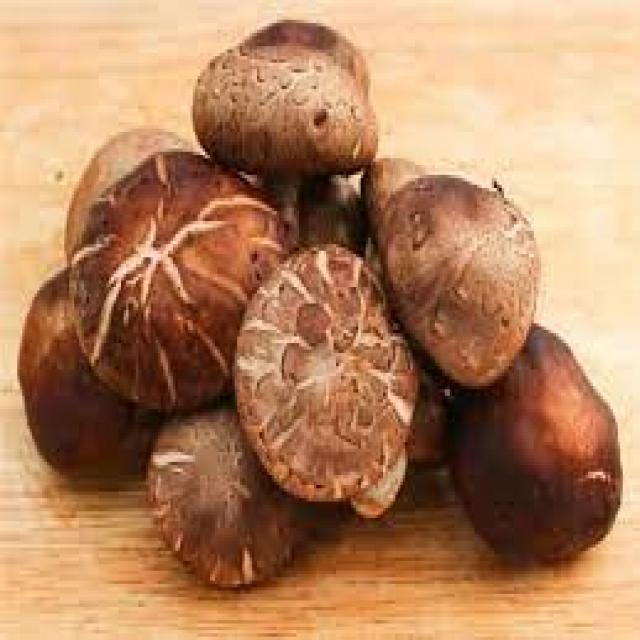Mushroom: (235, 244, 420, 518), (193, 20, 378, 181)
